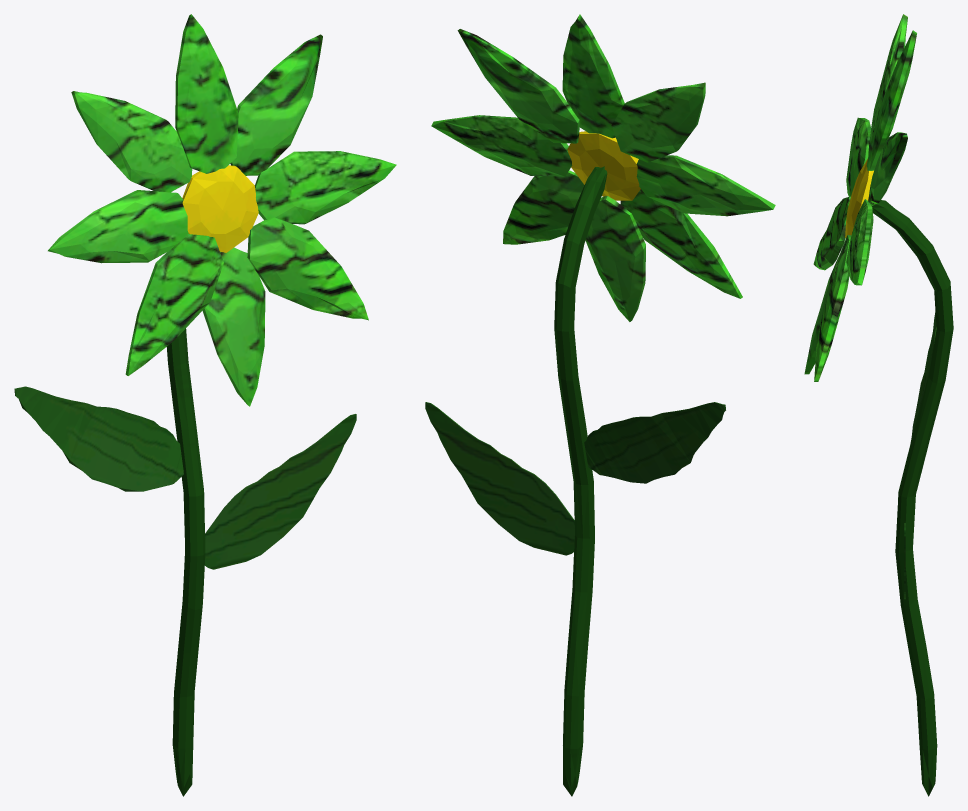
Rendered from Flower.glb.
3 views of the same model, side by side, from view 1: azimuth 30°, elevation 25°; view 2: azimuth 150°, elevation 25°; view 3: azimuth 270°, elevation 25° (orthographic). The views are drawn at different scales.
Parts seen in each view (by area): view 1: Flower; view 2: Flower; view 3: Flower.
Boxes of the visible parts, <box> form: Flower: <box>14,14,396,796</box>; Flower: <box>425,14,775,796</box>; Flower: <box>804,14,953,796</box>.
Size of the model in its own units: 186 by 404 by 71.11.
1 material, 1 textured.
